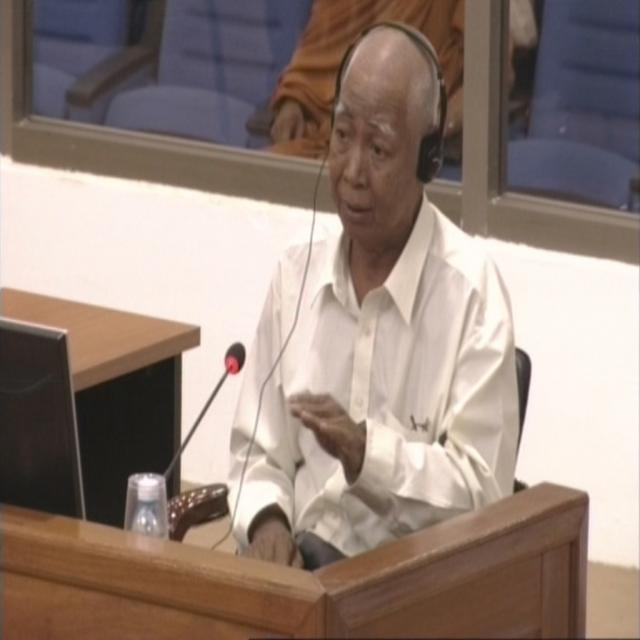desk: (0, 284, 588, 639)
person: (226, 12, 522, 580), (263, 0, 465, 156)
